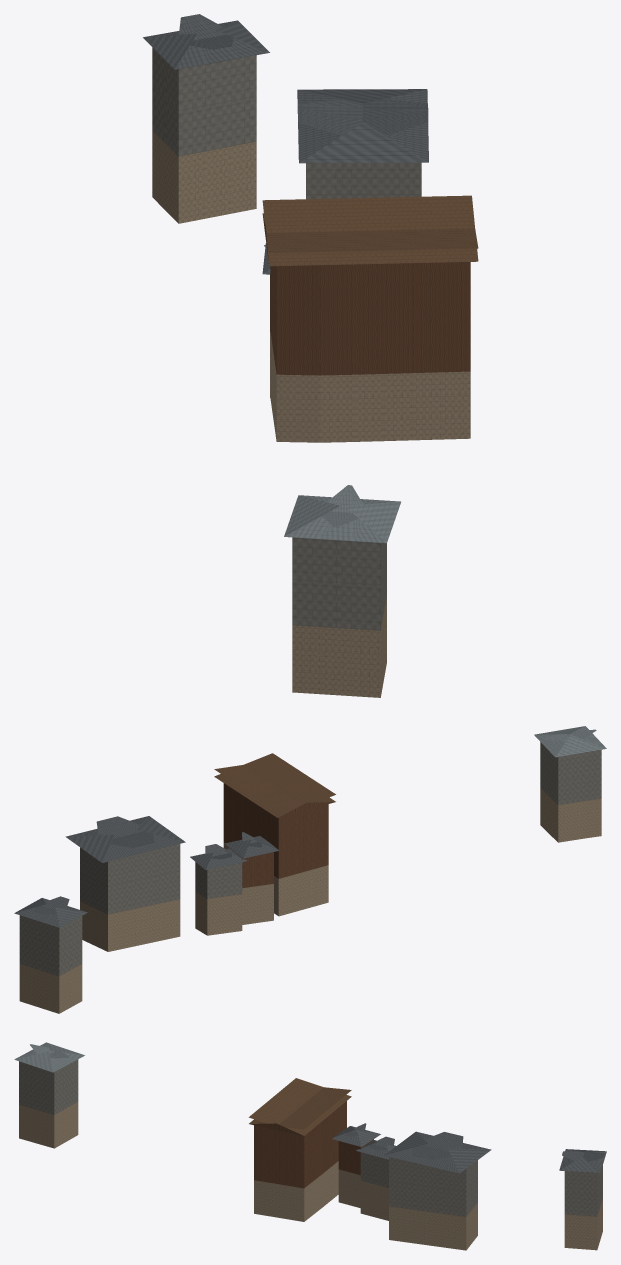
Rendered from bld_c23_-48_533.gltf.
The picture shows the model from 3 angles, top to bottom: view 1: azimuth 30°, elevation 25°; view 2: azimuth 150°, elevation 25°; view 3: azimuth 270°, elevation 25°; orthographic projection. The views are drawn at different scales.
Visible parts, largest first — view 1: bld_c23_-48_533; view 2: bld_c23_-48_533; view 3: bld_c23_-48_533.
Part boxes in pixels (left/top/right/bottom): bld_c23_-48_533: left=143, top=14, right=478, bottom=697; bld_c23_-48_533: left=14, top=726, right=606, bottom=1013; bld_c23_-48_533: left=14, top=1042, right=606, bottom=1250.
Bounding box in the file's own units: 44.23 × 16.3 × 81.55.
7 materials, 7 textured.
